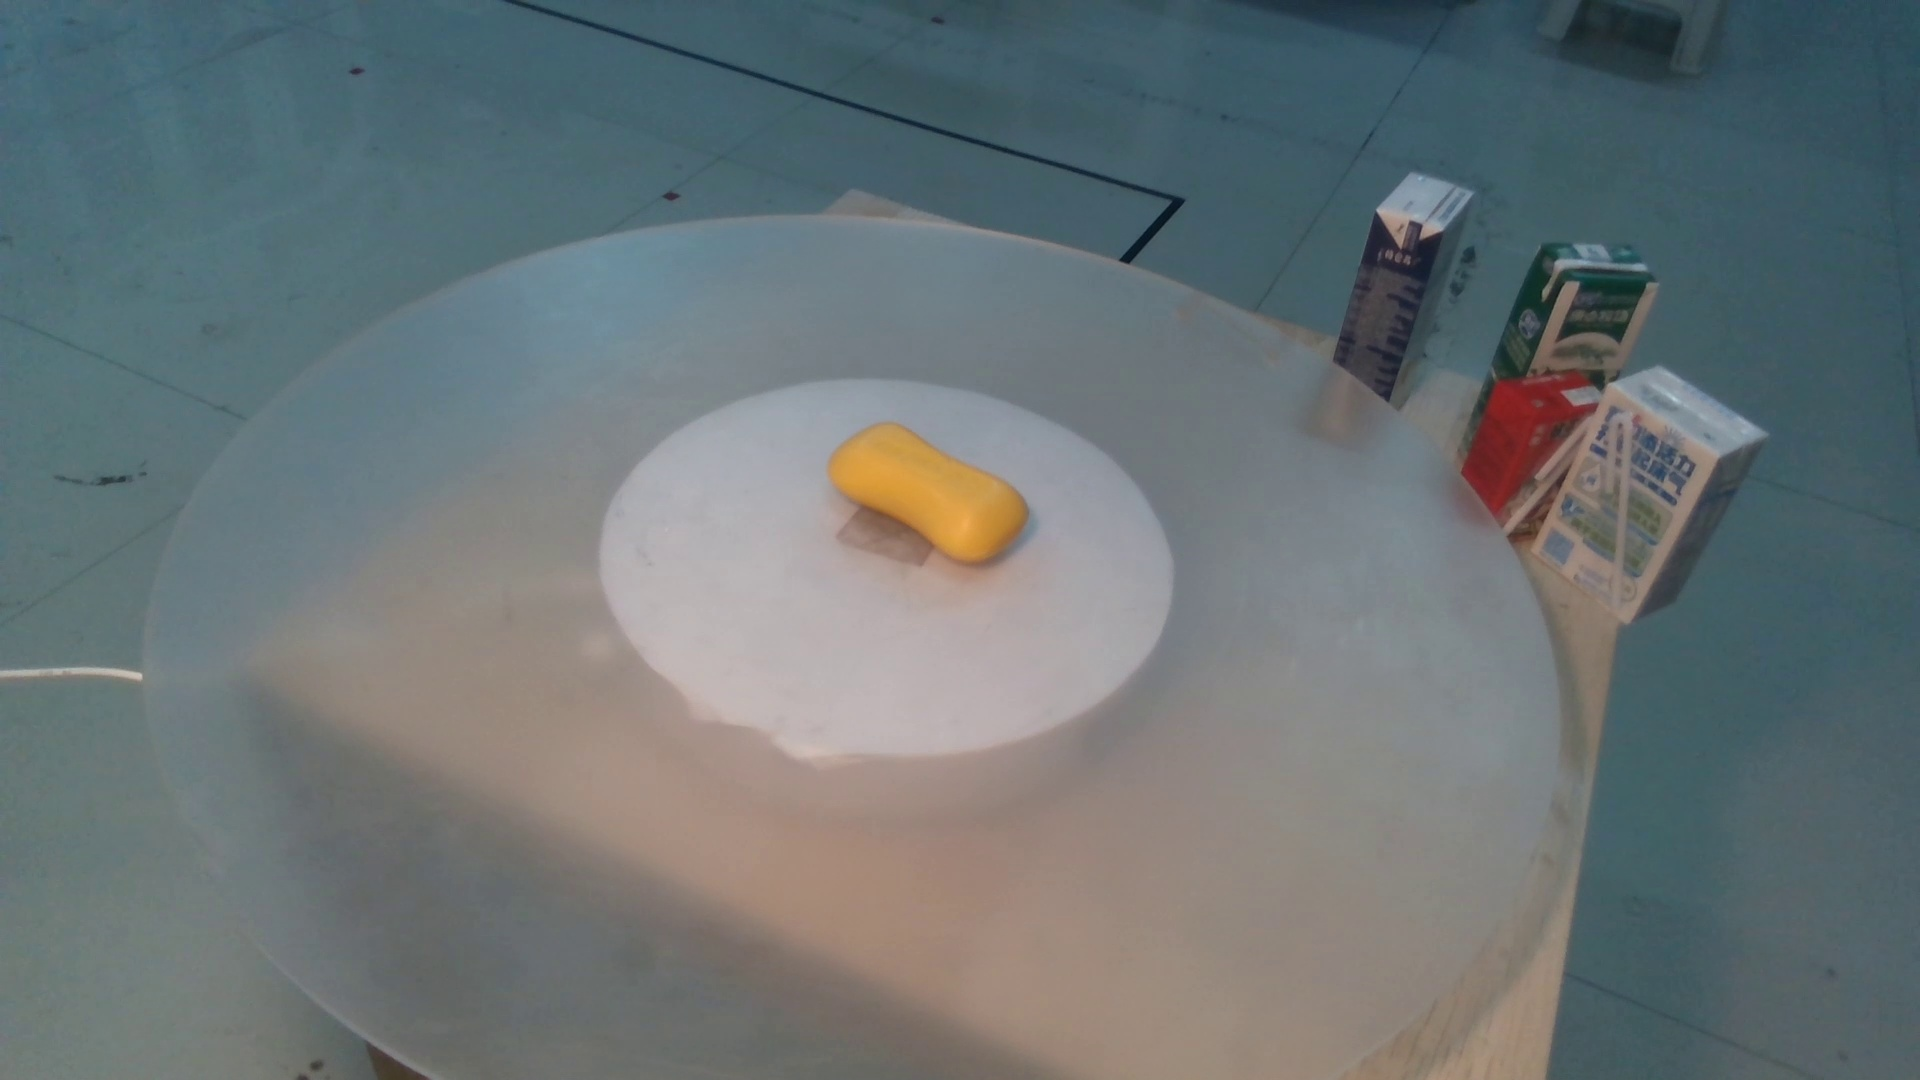CA003_1: (814, 411, 1033, 570)
